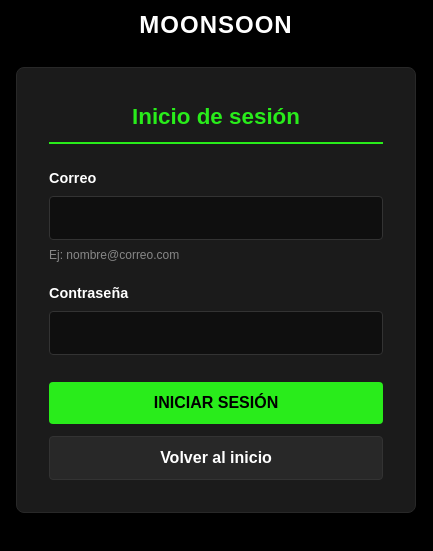
Login › muestra un error general si la cuenta no existe
The image size is (433, 551).
Type "nadie@gmail.com" into the field labelled "Correo".
click(216, 218); type("nadie@gmail.com")  # box [49, 196, 383, 240]
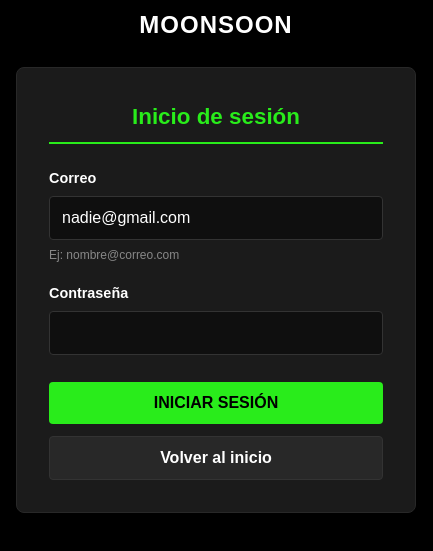
Type "Clave123!" into the password field labelled "Contraseña".
click(216, 333); type("Clave123!")  # box [49, 311, 383, 355]
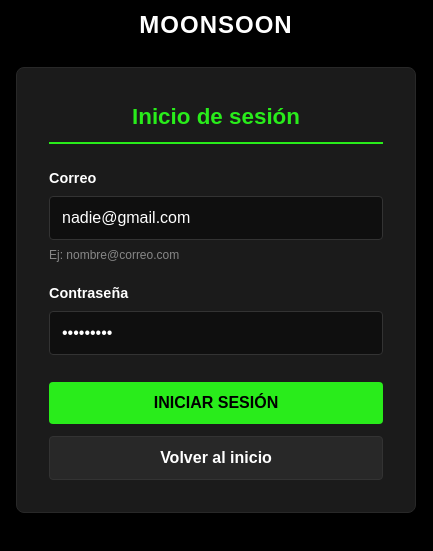
Click the button "Iniciar sesión".
click(216, 403)  # box [49, 382, 383, 424]
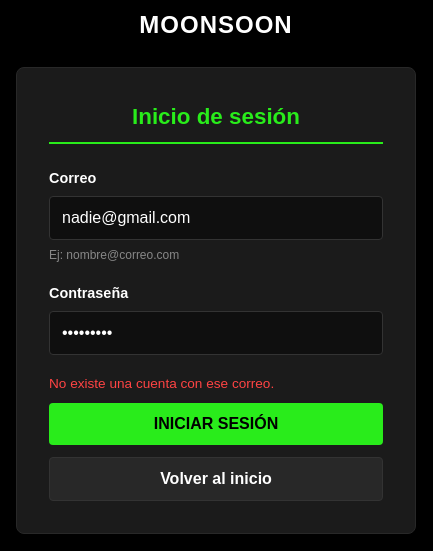
Check: the text "No existe una cuenta con ese correo." is shown, box [49, 376, 274, 391]
